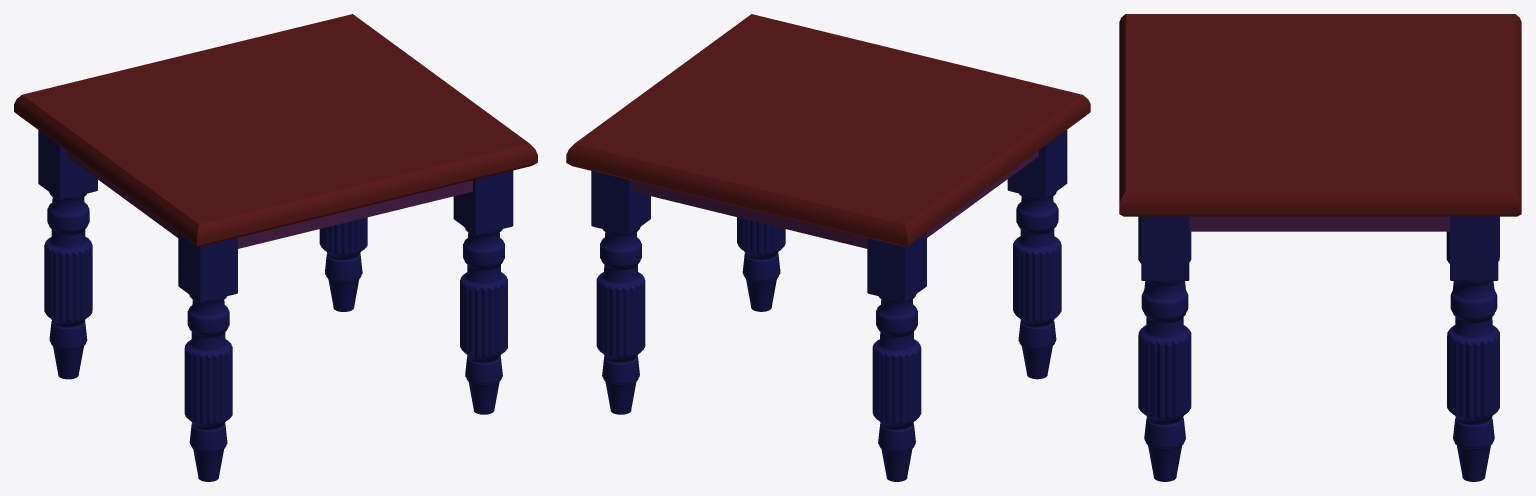
Rendered from table_painted.fbx.
3 views of the same model, side by side, from view 1: azimuth 30°, elevation 25°; view 2: azimuth 150°, elevation 25°; view 3: azimuth 270°, elevation 25° (orthographic). The views are drawn at different scales.
Parts seen in each view (by area): view 1: table_low, legs_low, undertable_low; view 2: table_low, legs_low, undertable_low; view 3: table_low, legs_low, undertable_low.
Part boxes in pixels (<box>): table_low: <box>14,14,537,246</box>; legs_low: <box>38,130,513,481</box>; undertable_low: <box>66,151,472,248</box>; table_low: <box>566,14,1090,247</box>; legs_low: <box>591,130,1067,481</box>; undertable_low: <box>631,150,1038,248</box>; table_low: <box>1119,14,1521,216</box>; legs_low: <box>1138,216,1499,481</box>; undertable_low: <box>1189,216,1449,231</box>.
Bounding box in the file's own units: 10.76 × 8.24 × 10.01.
